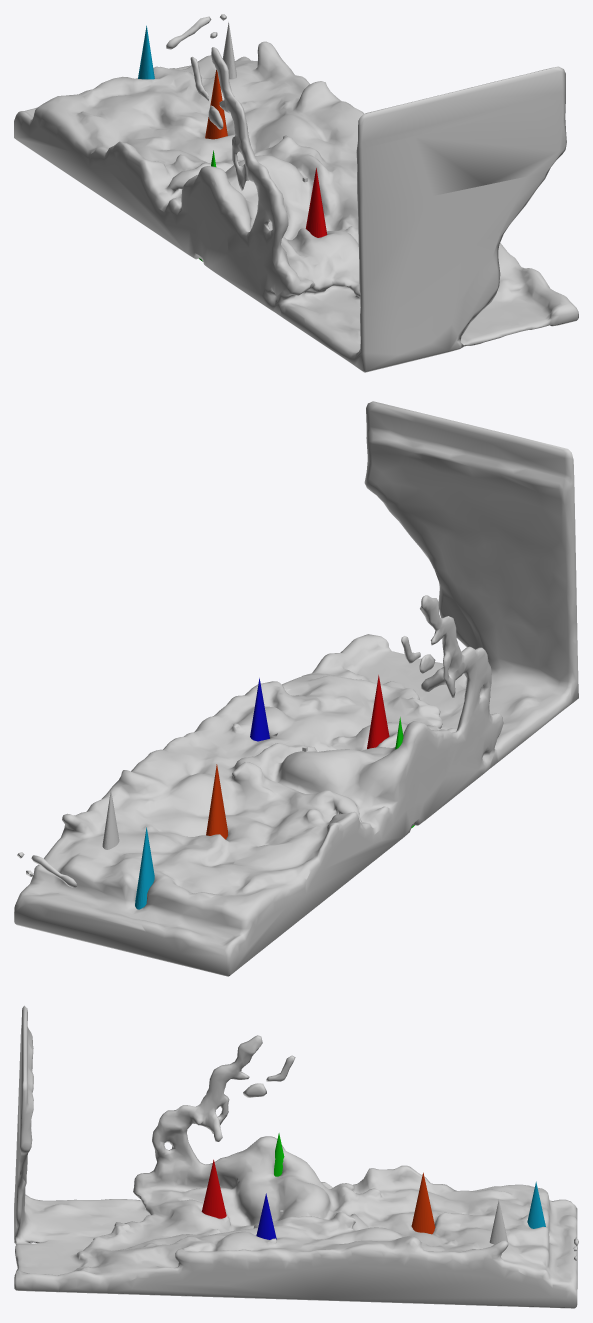
The picture shows the model from 3 angles, top to bottom: view 1: azimuth 30°, elevation 25°; view 2: azimuth 150°, elevation 25°; view 3: azimuth 270°, elevation 25°; orthographic projection. The views are drawn at different scales.
Parts seen in each view (by area): view 1: Liquid_Domain, 円錐.001, 円錐.004, 円錐.005; view 2: Liquid_Domain, 円錐.004, 円錐.001, 円錐.005; view 3: Liquid_Domain, 円錐.004, 円錐.001, 円錐.002, 円錐.005, 円錐.
Boxes of the visible parts, box(x1,y1,x2,y2) form: Liquid_Domain: box(14, 14, 578, 372); 円錐.001: box(305, 168, 327, 237); 円錐.004: box(205, 70, 227, 139); 円錐.005: box(138, 25, 154, 79); Liquid_Domain: box(14, 401, 578, 976); 円錐.004: box(206, 764, 227, 839); 円錐.001: box(367, 675, 389, 748); 円錐.005: box(135, 827, 154, 909); Liquid_Domain: box(14, 1005, 578, 1308); 円錐.004: box(411, 1172, 435, 1234); 円錐.001: box(201, 1159, 226, 1218); 円錐.002: box(256, 1193, 276, 1239); 円錐.005: box(527, 1181, 545, 1228); 円錐: box(489, 1200, 508, 1244).
Size of the model in its own units: 129 by 158 by 362.
